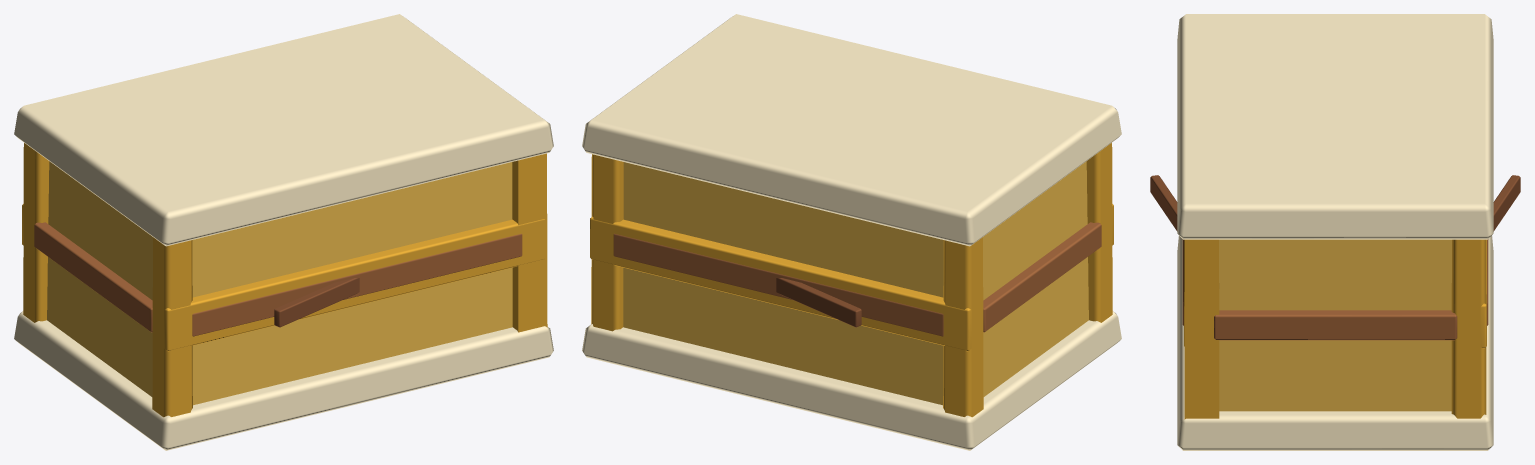
Rendered from mid_return_box.glb.
3 views of the same model, side by side, from view 1: azimuth 30°, elevation 25°; view 2: azimuth 150°, elevation 25°; view 3: azimuth 270°, elevation 25° (orthographic). The views are drawn at different scales.
Visible parts, largest first — view 1: mid_return_box; view 2: mid_return_box; view 3: mid_return_box.
Boxes of the visible parts, x1,y1,x2,y2 form: mid_return_box: (14,14,553,450); mid_return_box: (582,14,1121,450); mid_return_box: (1150,14,1520,450).
Bounding box in the file's own units: 1.81 × 1.05 × 1.43.
